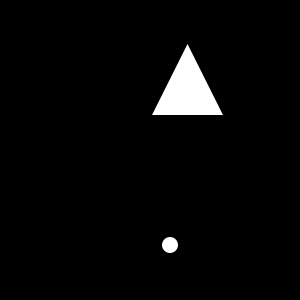rectangle: (162, 237, 178, 253)
triangle: (152, 44, 223, 115)
